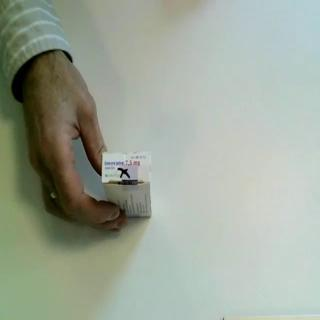imovane7-5mg: (102, 150, 155, 220)
